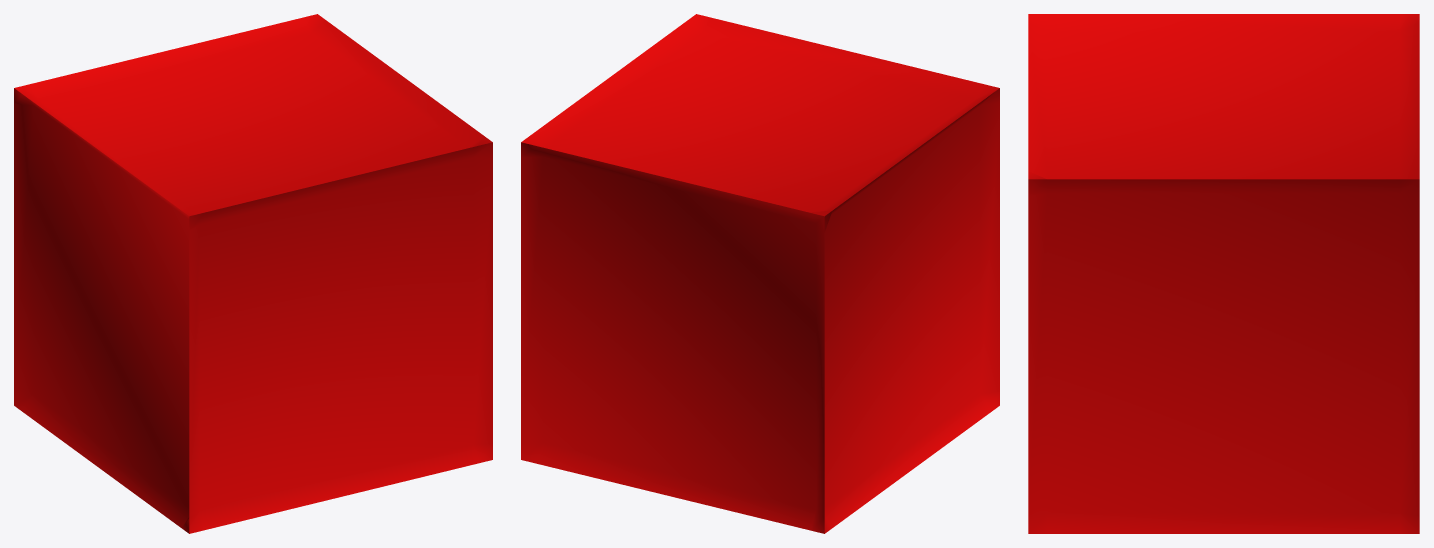
File: BoxRed.fbx
3 renders of one model, left to right at view 1: azimuth 30°, elevation 25°; view 2: azimuth 150°, elevation 25°; view 3: azimuth 270°, elevation 25°, orthographic. The views are drawn at different scales.
Visible parts, largest first — view 1: pCube1; view 2: pCube1; view 3: pCube1.
Part boxes in pixels (x1=…): pCube1: x1=14, y1=14, x2=492, y2=533; pCube1: x1=521, y1=14, x2=999, y2=533; pCube1: x1=1028, y1=14, x2=1419, y2=533.
Size of the model in its own units: 1.27 by 1.27 by 1.27.
